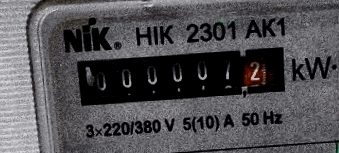0: (92, 67, 108, 92), (169, 60, 184, 84), (144, 62, 158, 86), (194, 57, 208, 81), (118, 66, 133, 88)
2: (247, 58, 261, 82)
7: (220, 56, 233, 81)
screen: (65, 36, 296, 114)
